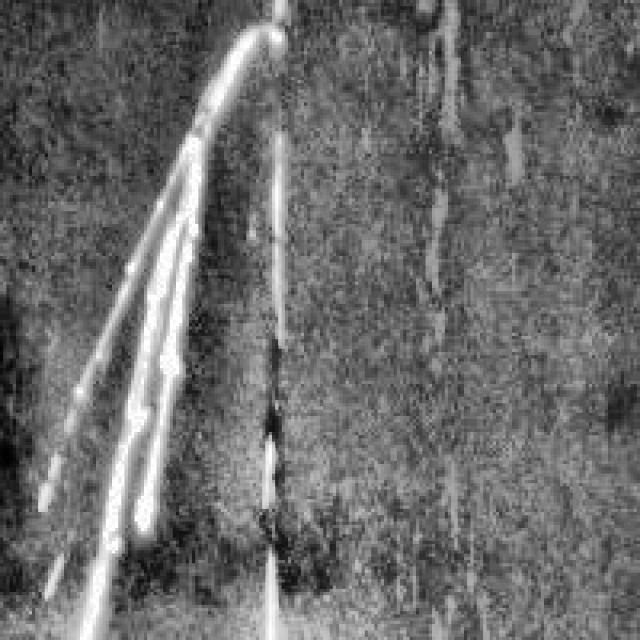Inclusion: (51, 7, 259, 630), (246, 410, 292, 634), (253, 125, 294, 349)
Patches: (404, 0, 471, 147)
